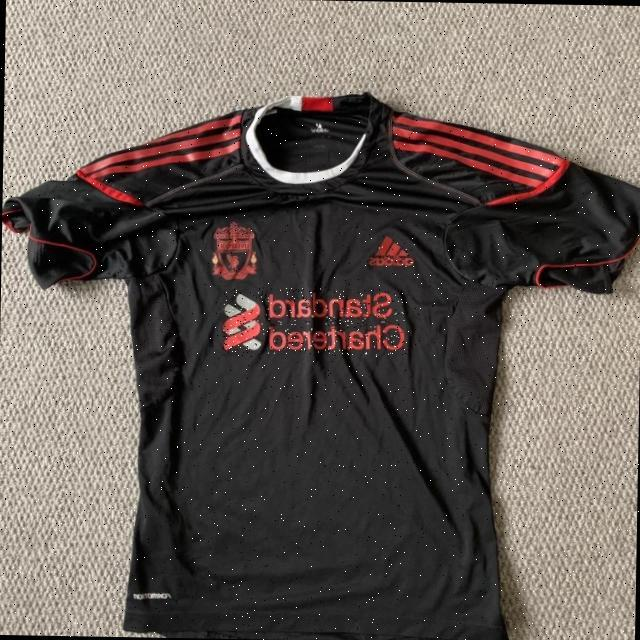Adidas: (369, 235, 415, 267)
Standard Chartered: (222, 287, 405, 356)
